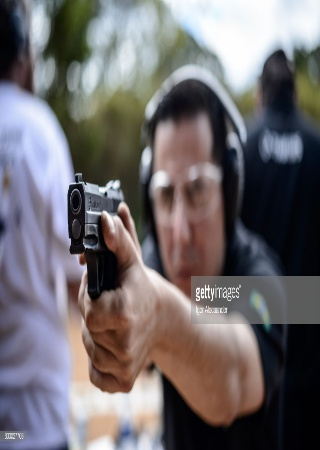handgun: (65, 173, 125, 301)
